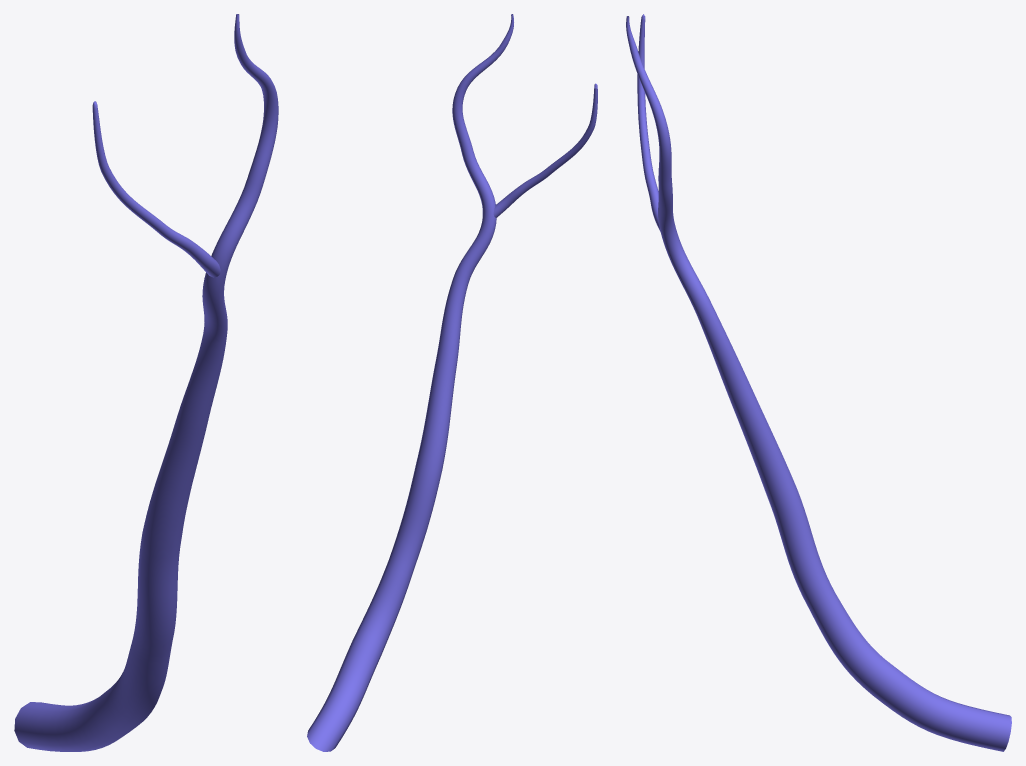
File: Superficial_epigastric_vein.l_BezierCurve.370.glb
The picture shows the model from 3 angles, left to right: view 1: azimuth 30°, elevation 25°; view 2: azimuth 150°, elevation 25°; view 3: azimuth 270°, elevation 25°; orthographic projection. The views are drawn at different scales.
Visible parts, largest first — view 1: Superficial_epigastric_vein.l_BezierCurve.370; view 2: Superficial_epigastric_vein.l_BezierCurve.370; view 3: Superficial_epigastric_vein.l_BezierCurve.370.
Boxes of the visible parts, x1,y1,x2,y2 form: Superficial_epigastric_vein.l_BezierCurve.370: (14, 14, 278, 751); Superficial_epigastric_vein.l_BezierCurve.370: (307, 14, 597, 751); Superficial_epigastric_vein.l_BezierCurve.370: (626, 14, 1011, 751).
Bounding box in the file's own units: 0.0299 × 0.1274 × 0.0619.
